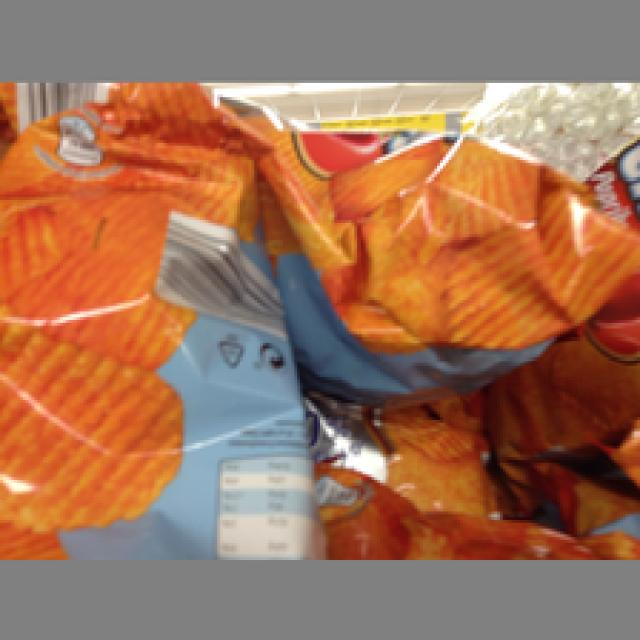groceries: (0, 94, 289, 557), (263, 126, 637, 380)
